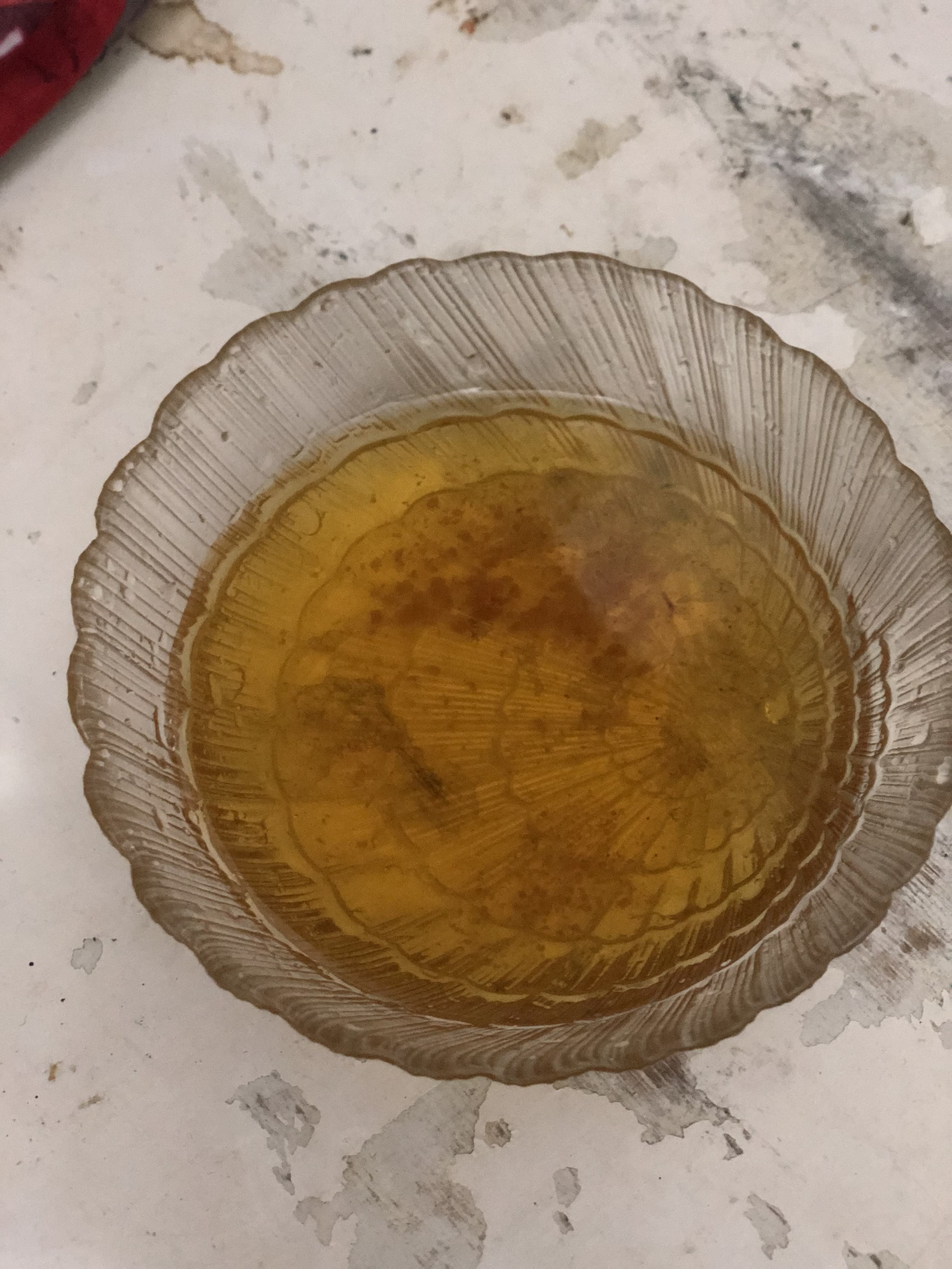reusable: (179, 400, 853, 1017)
